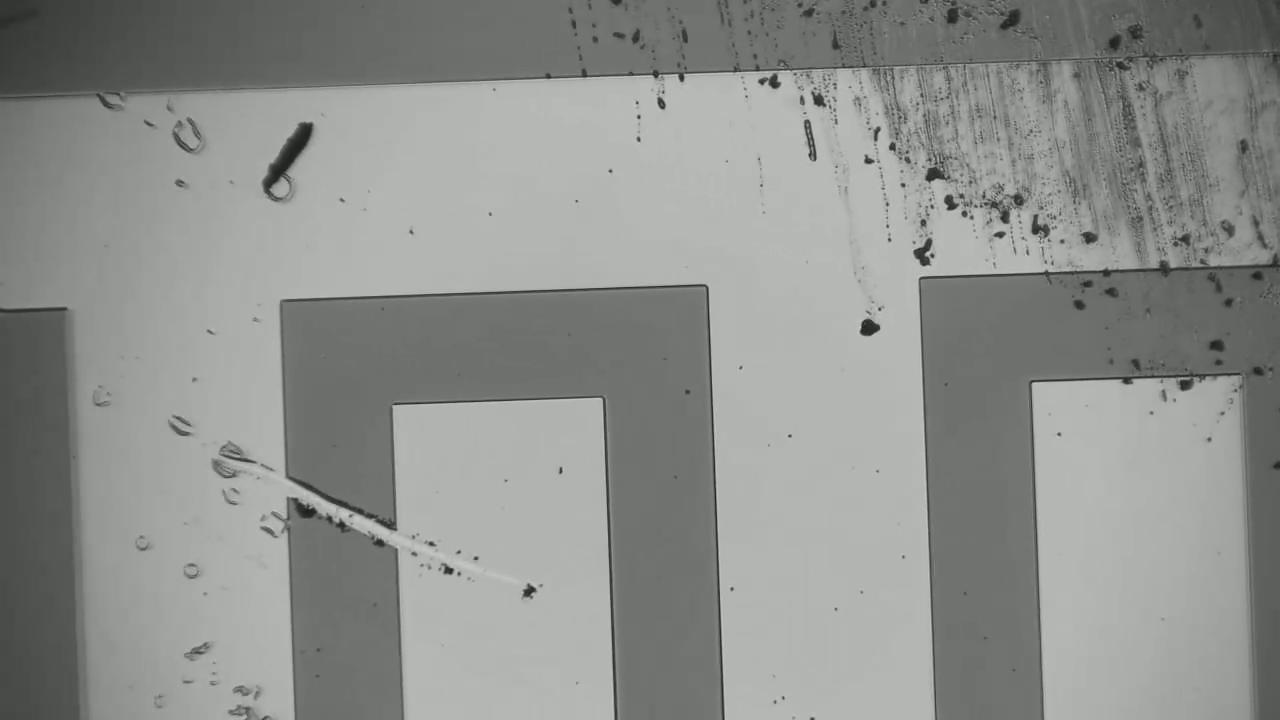Short_circuit: (254, 445, 436, 582)
